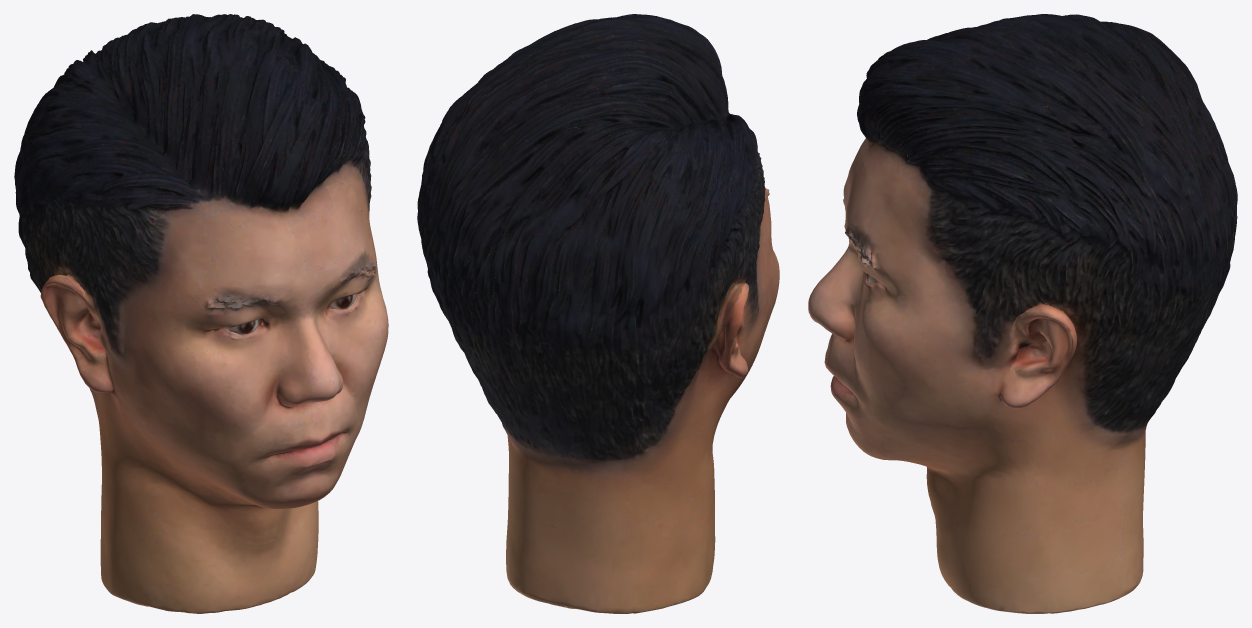
The model's file is 真人头像_男_青年02_opt.glb.
The picture shows the model from 3 angles, left to right: view 1: azimuth 30°, elevation 25°; view 2: azimuth 150°, elevation 25°; view 3: azimuth 270°, elevation 25°; orthographic projection. The views are drawn at different scales.
Parts seen in each view (by area): view 1: 0326_L-new, 0326_L-new_1; view 2: 0326_L-new, 0326_L-new_1; view 3: 0326_L-new, 0326_L-new_1.
Part boxes in pixels (<box>): 0326_L-new: <box>14,14,388,613</box>; 0326_L-new_1: <box>16,20,373,307</box>; 0326_L-new: <box>417,14,779,613</box>; 0326_L-new_1: <box>417,17,769,312</box>; 0326_L-new: <box>808,14,1237,613</box>; 0326_L-new_1: <box>845,32,1236,289</box>.
Size of the model in its own units: 0.1771 by 0.3 by 0.2127.
1 material, 1 textured.
